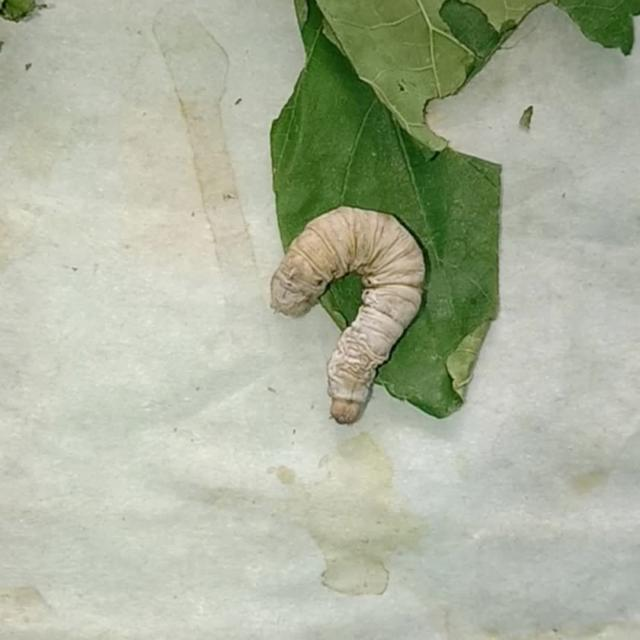Grasserie: (256, 189, 435, 436)
